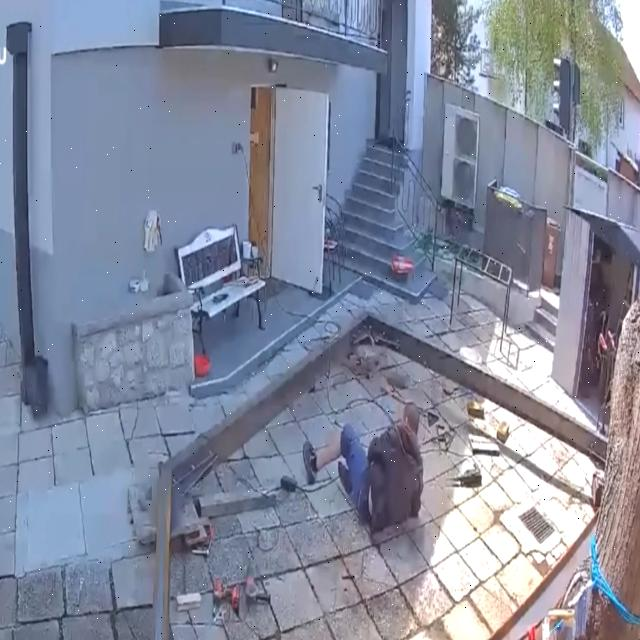fallen: (303, 404, 423, 533)
